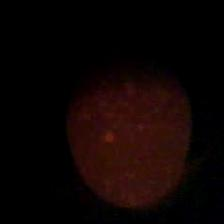fertile: (64, 41, 192, 210)
